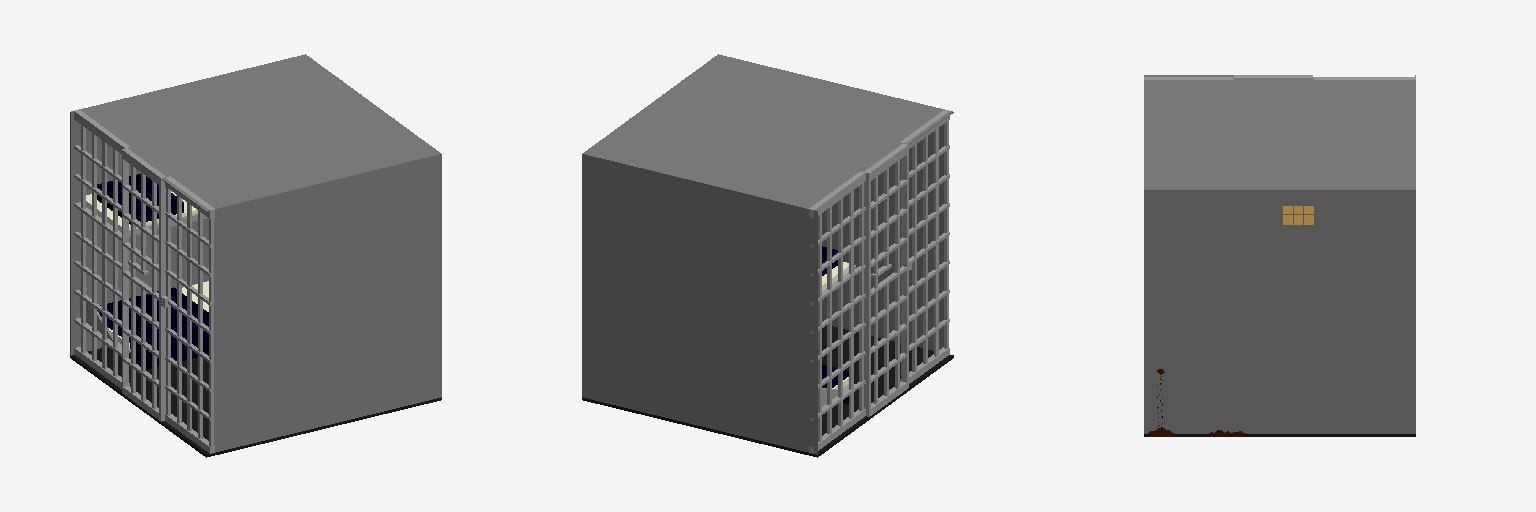
3 views of the same model, side by side, from view 1: azimuth 30°, elevation 25°; view 2: azimuth 150°, elevation 25°; view 3: azimuth 270°, elevation 25° (orthographic).
Parts seen in each view (by area): view 1: object 1; view 2: object 1; view 3: object 1.
Boxes of the visible parts, box(x1,y1,x2,y2) form: object 1: box(70, 54, 441, 457); object 1: box(582, 54, 953, 457); object 1: box(1144, 75, 1415, 436).
Bounding box in the file's own units: 25.6 × 25.6 × 25.6.
Materials: 1 (1 with a texture image).